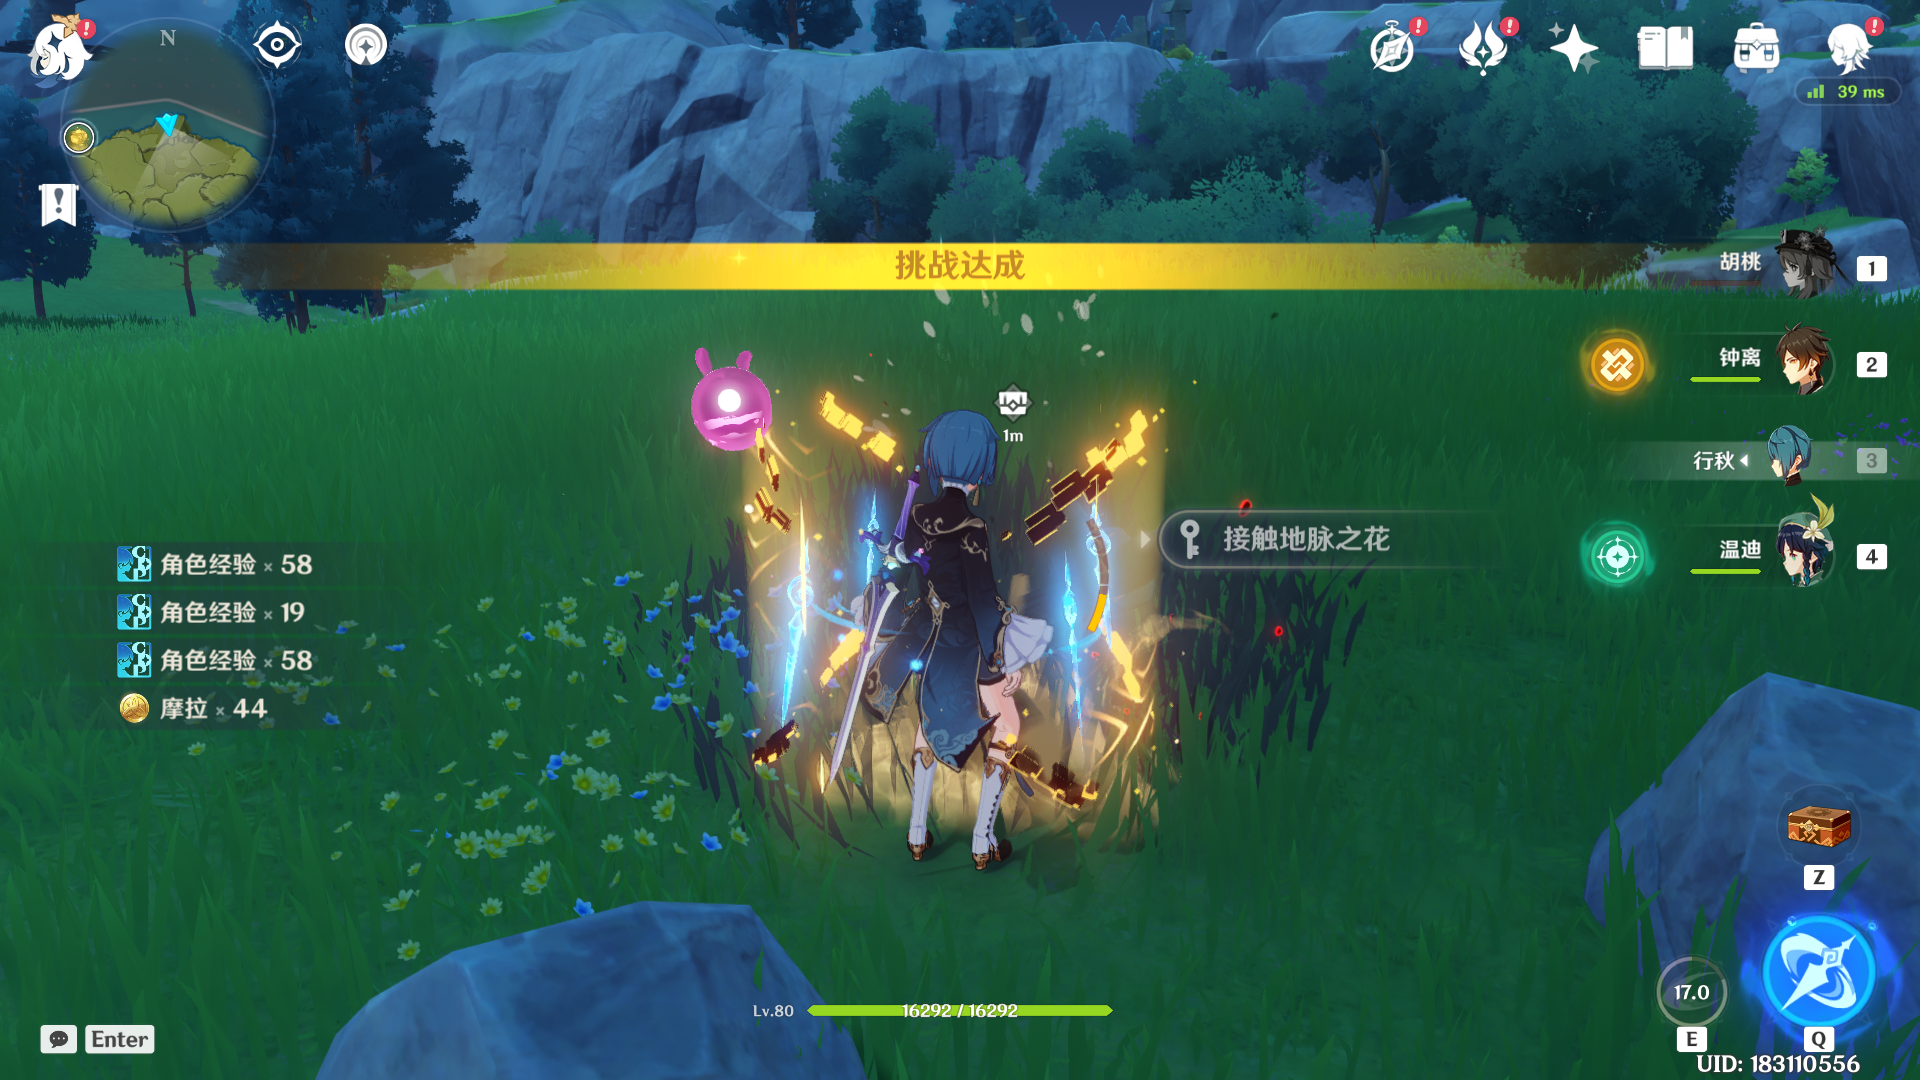character: (769, 386, 1158, 927)
